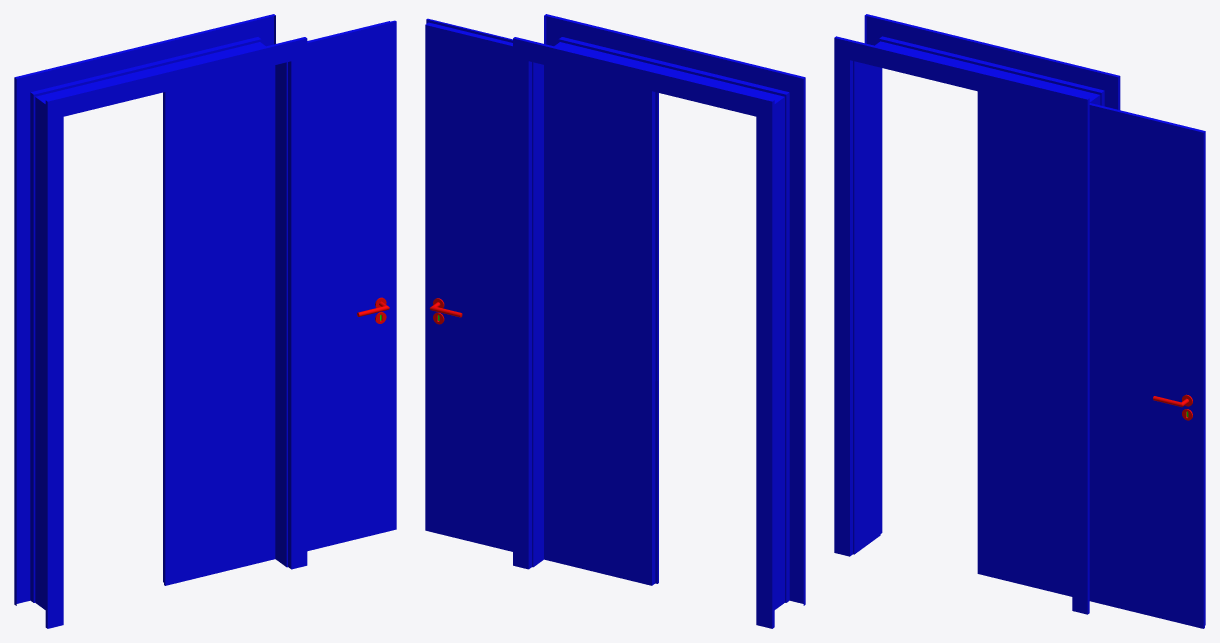
The model's file is InnerDoor01_high.FBX.
3 renders of one model, left to right at view 1: azimuth 30°, elevation 25°; view 2: azimuth 150°, elevation 25°; view 3: azimuth 330°, elevation 25°, orthographic. The views are drawn at different scales.
Parts seen in each view (by area): view 1: Inner_Door01_Left_high, InnerDoor01_Frame_high; view 2: Inner_Door01_Left_high, InnerDoor01_Frame_high; view 3: Inner_Door01_Left_high, InnerDoor01_Frame_high.
Boxes of the visible parts, left/top/right/bottom form: Inner_Door01_Left_high: left=163, top=20, right=396, bottom=585; InnerDoor01_Frame_high: left=14, top=14, right=307, bottom=628; Inner_Door01_Left_high: left=425, top=18, right=658, bottom=585; InnerDoor01_Frame_high: left=513, top=14, right=805, bottom=628; Inner_Door01_Left_high: left=977, top=91, right=1205, bottom=628; InnerDoor01_Frame_high: left=834, top=14, right=1120, bottom=614.
Bounding box in the file's own units: 159 × 25.2 × 220.
